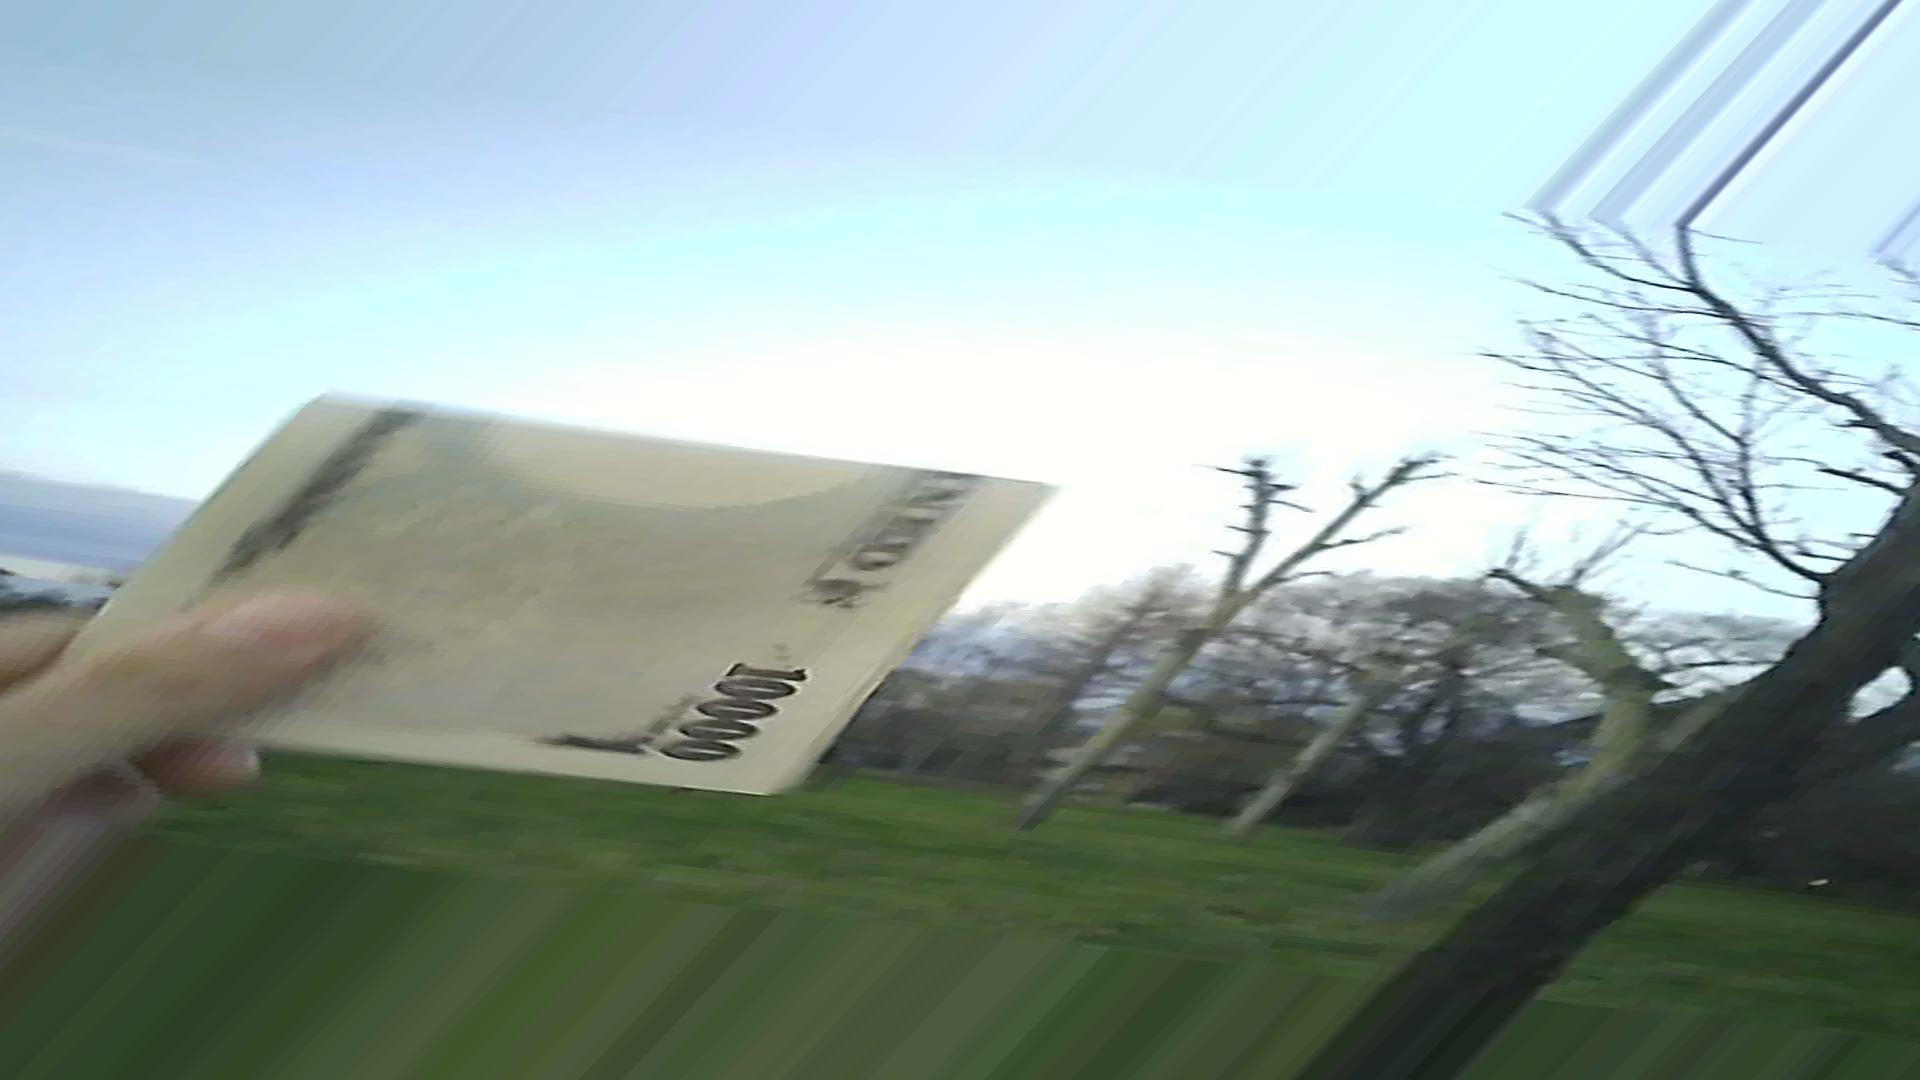10,000 Yen: (105, 393, 1002, 803)
